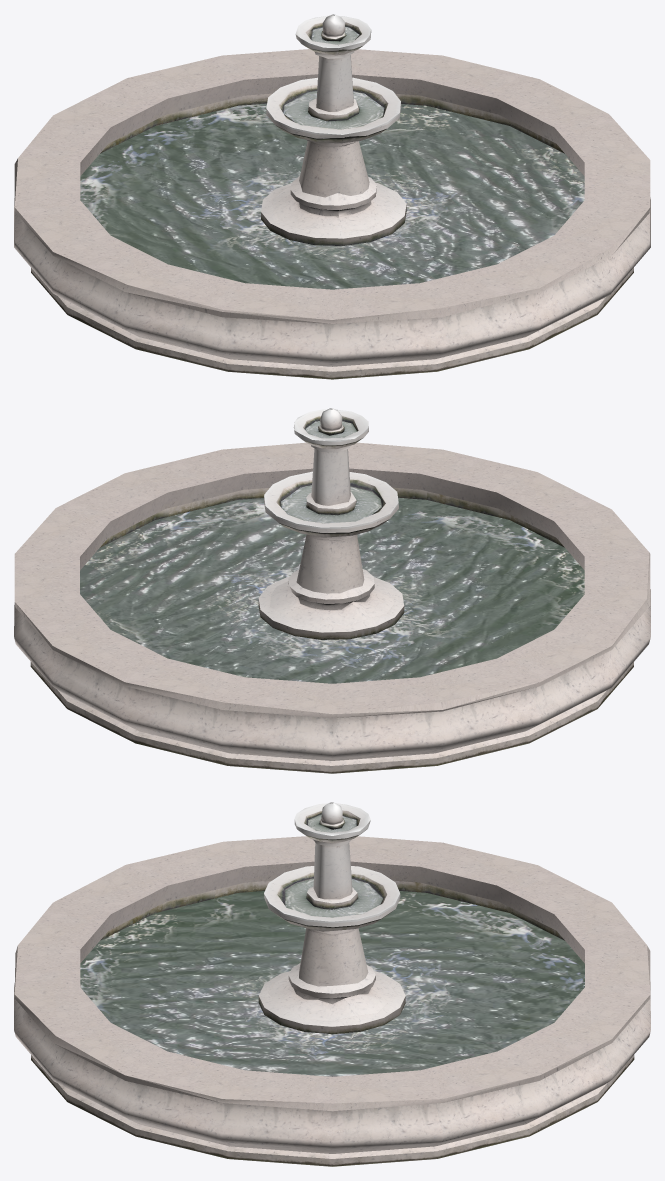
The model's file is fontana_normale.001_LOD1.fbx.
3 views of the same model, one above another, from view 1: azimuth 30°, elevation 25°; view 2: azimuth 150°, elevation 25°; view 3: azimuth 270°, elevation 25° (orthographic).
Parts seen in each view (by area): view 1: fontana_normale_001; view 2: fontana_normale_001; view 3: fontana_normale_001.
Part boxes in pixels (left/top/right/bottom): fontana_normale_001: left=14, top=14, right=650, bottom=379; fontana_normale_001: left=14, top=408, right=650, bottom=773; fontana_normale_001: left=14, top=802, right=650, bottom=1166.
Size of the model in its own units: 653 by 262 by 644.
Materials: 3 (3 with a texture image).
